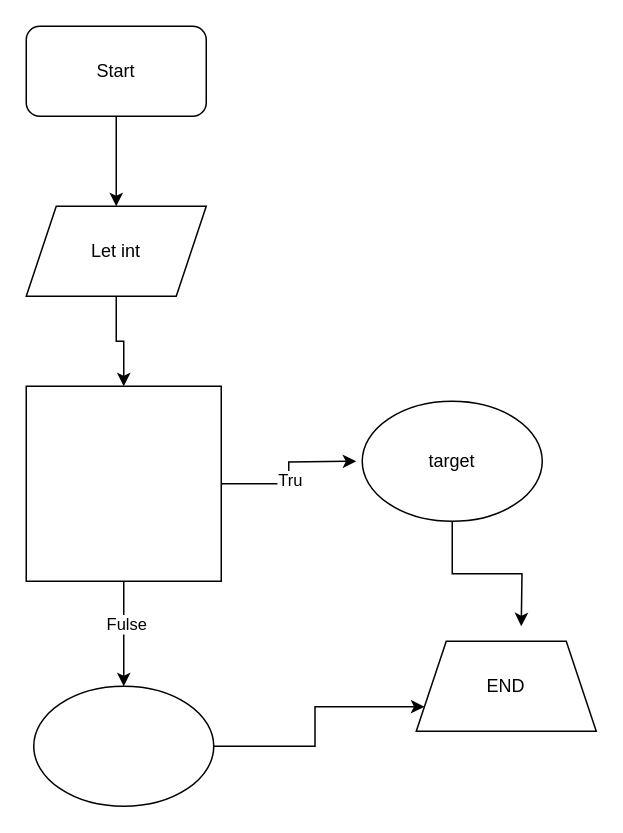
The diagram is 623 pixels wide and 833 high, and some of its shapes have lost their labels. Each missing label, with the box of its shape:
length of array: (25, 385, 221, 581)
target is not find: (32, 685, 214, 806)
